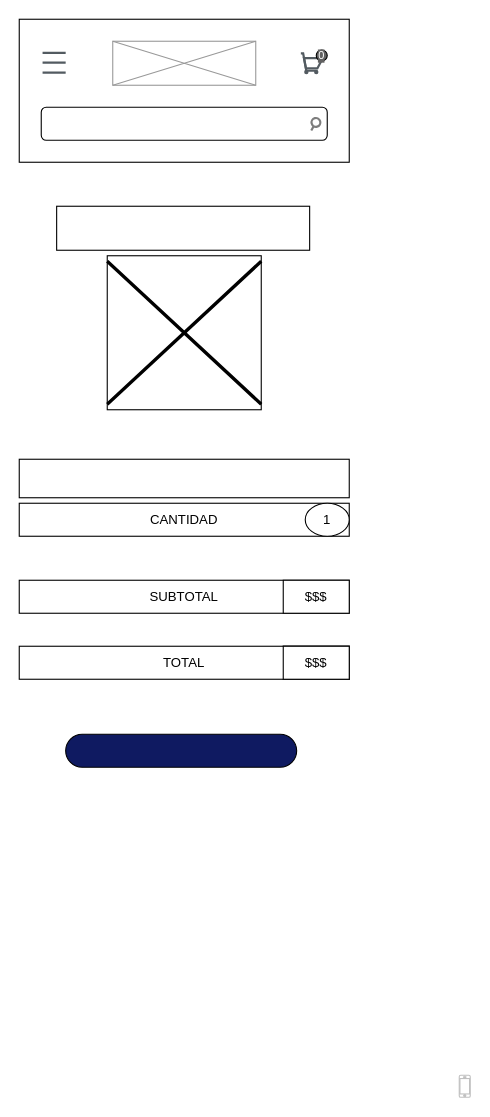
This 490x1117 diagram has some shape labels left out. Here are the shapes that lost their labels. From the top down, the centre of each, then its label:
(x=183, y=123): ¿Qué estás buscando?
(x=183, y=227): MI COMPRA
(x=183, y=478): DESCRIPCIÓN DEL PRODUCTO
(x=181, y=750): Proceder compra
